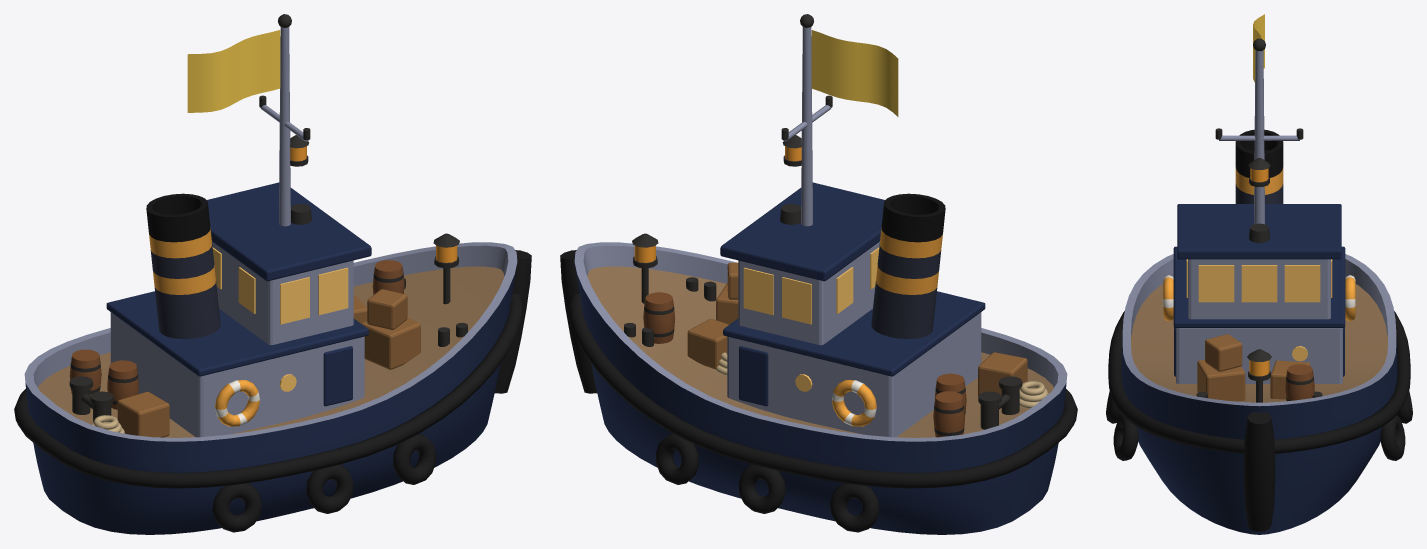
The model's file is semi-realista-noche.glb.
3 views of the same model, side by side, from view 1: azimuth 30°, elevation 25°; view 2: azimuth 150°, elevation 25°; view 3: azimuth 270°, elevation 25° (orthographic). The views are drawn at different scales.
Visible parts, largest first — view 1: hull, house, house_trim, fenders, funnel, flag, windows, mast, crate_0, crate_3, bitts, lanterns (+6 smaller); view 2: hull, house, house_trim, fenders, funnel, flag, windows, mast, bitts, crate_1, lanterns, crate_3 (+7 smaller); view 3: hull, house_trim, fenders, house, windows, funnel, mast, crate_0, lanterns, crate_2, barrel_2, life_rings (+3 smaller).
Boxes of the visible parts, x1=… form: hull: x1=24, y1=242, x2=517, y2=534; house: x1=110, y1=241, x2=364, y2=437; house_trim: x1=106, y1=182, x2=371, y2=406; fenders: x1=14, y1=250, x2=531, y2=532; funnel: x1=146, y1=193, x2=220, y2=338; flag: x1=187, y1=30, x2=280, y2=112; windows: x1=212, y1=247, x2=348, y2=391; mast: x1=260, y1=27, x2=308, y2=226; crate_0: x1=361, y1=318, x2=420, y2=369; crate_3: x1=117, y1=391, x2=169, y2=437; bitts: x1=69, y1=278, x2=467, y2=422; lanterns: x1=290, y1=135, x2=459, y2=304; hull: x1=574, y1=242, x2=1067, y2=534; house: x1=727, y1=241, x2=981, y2=437; house_trim: x1=720, y1=182, x2=985, y2=406; fenders: x1=560, y1=250, x2=1077, y2=532; funnel: x1=871, y1=193, x2=945, y2=338; flag: x1=811, y1=30, x2=898, y2=116; windows: x1=743, y1=247, x2=879, y2=391; mast: x1=783, y1=27, x2=831, y2=226; bitts: x1=624, y1=277, x2=1022, y2=429; crate_1: x1=687, y1=319, x2=728, y2=368; lanterns: x1=632, y1=135, x2=801, y2=303; crate_3: x1=978, y1=352, x2=1027, y2=396; hull: x1=1121, y1=254, x2=1397, y2=534; house_trim: x1=1173, y1=204, x2=1345, y2=376; fenders: x1=1106, y1=311, x2=1412, y2=531; house: x1=1176, y1=259, x2=1342, y2=383; windows: x1=1186, y1=259, x2=1332, y2=361; funnel: x1=1235, y1=129, x2=1283, y2=203; mast: x1=1219, y1=50, x2=1299, y2=224; crate_0: x1=1197, y1=360, x2=1245, y2=401; lanterns: x1=1247, y1=158, x2=1271, y2=402; crate_2: x1=1205, y1=334, x2=1242, y2=371; barrel_2: x1=1285, y1=364, x2=1314, y2=401; life_rings: x1=1163, y1=275, x2=1355, y2=321.
Size of the model in its own units: 2.17 by 1.88 by 1.29.
